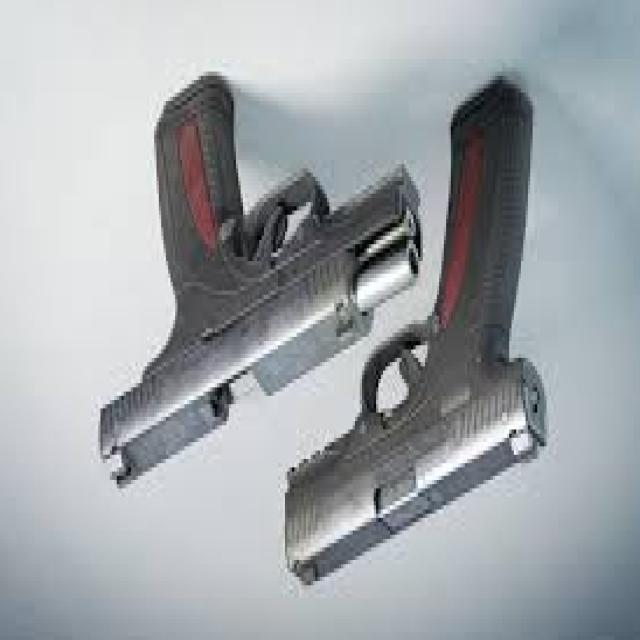Gun: (56, 78, 440, 497), (263, 92, 575, 586)
